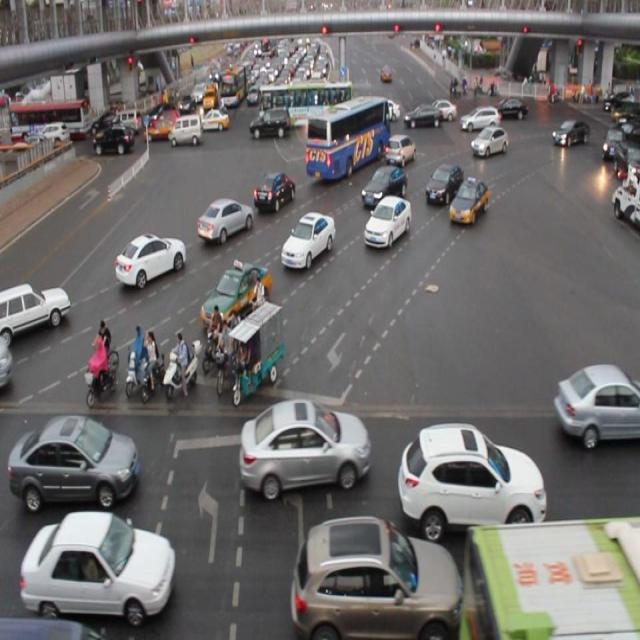car: (290, 511, 462, 640), (397, 419, 547, 537), (21, 512, 178, 619), (237, 393, 372, 492), (10, 416, 143, 511), (552, 355, 640, 447), (200, 257, 273, 331), (1, 279, 71, 340), (115, 231, 187, 287), (281, 210, 335, 269), (364, 194, 412, 249), (196, 198, 254, 242), (447, 174, 488, 225), (361, 167, 407, 206), (253, 174, 296, 211), (423, 164, 459, 203), (470, 124, 507, 157), (384, 132, 416, 167)
van: (464, 506, 640, 640), (306, 97, 391, 182)
